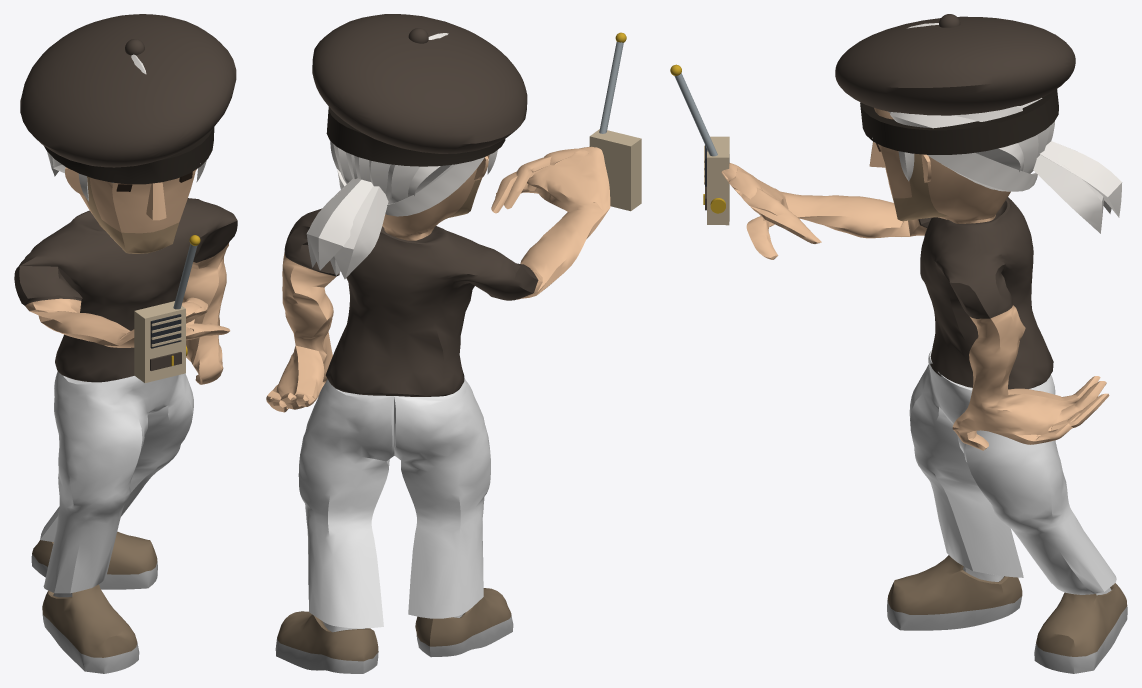
File: av-vovo-radio.glb
3 views of the same model, side by side, from view 1: azimuth 30°, elevation 25°; view 2: azimuth 150°, elevation 25°; view 3: azimuth 270°, elevation 25° (orthographic). The views are drawn at different scales.
Visible parts, largest first — view 1: Ad_boina_0_0; view 2: Ad_boina_0_0; view 3: Ad_boina_0_0.
Part boxes in pixels (bbox=[...]): Ad_boina_0_0: bbox=[14, 14, 237, 673]; Ad_boina_0_0: bbox=[266, 14, 641, 673]; Ad_boina_0_0: bbox=[670, 14, 1127, 673].
Bounding box in the file's own units: 0.555 × 1.39 × 0.9209.
1 material, 1 textured.
